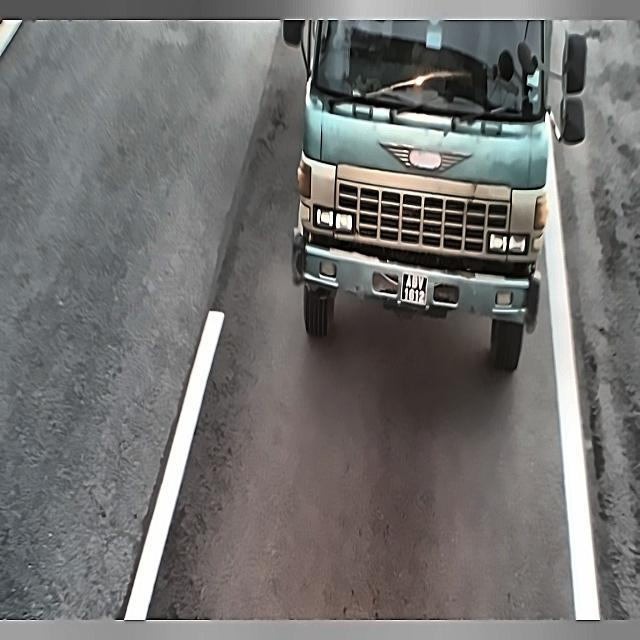car: (399, 268, 432, 319)
